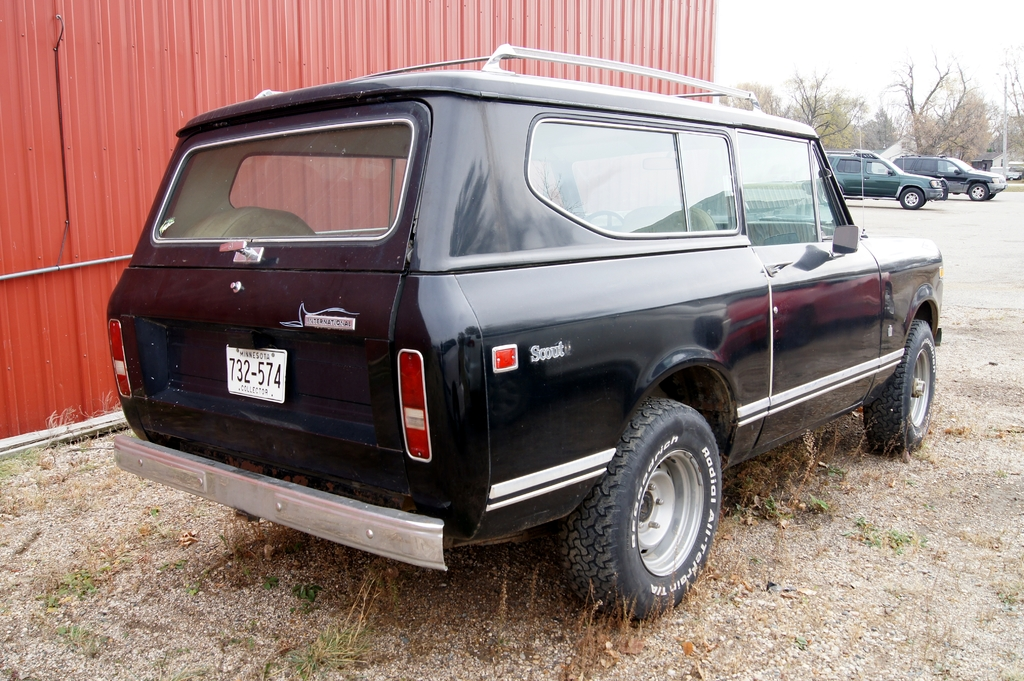Car: (104, 69, 954, 618), (801, 152, 945, 209), (885, 153, 1007, 202)
